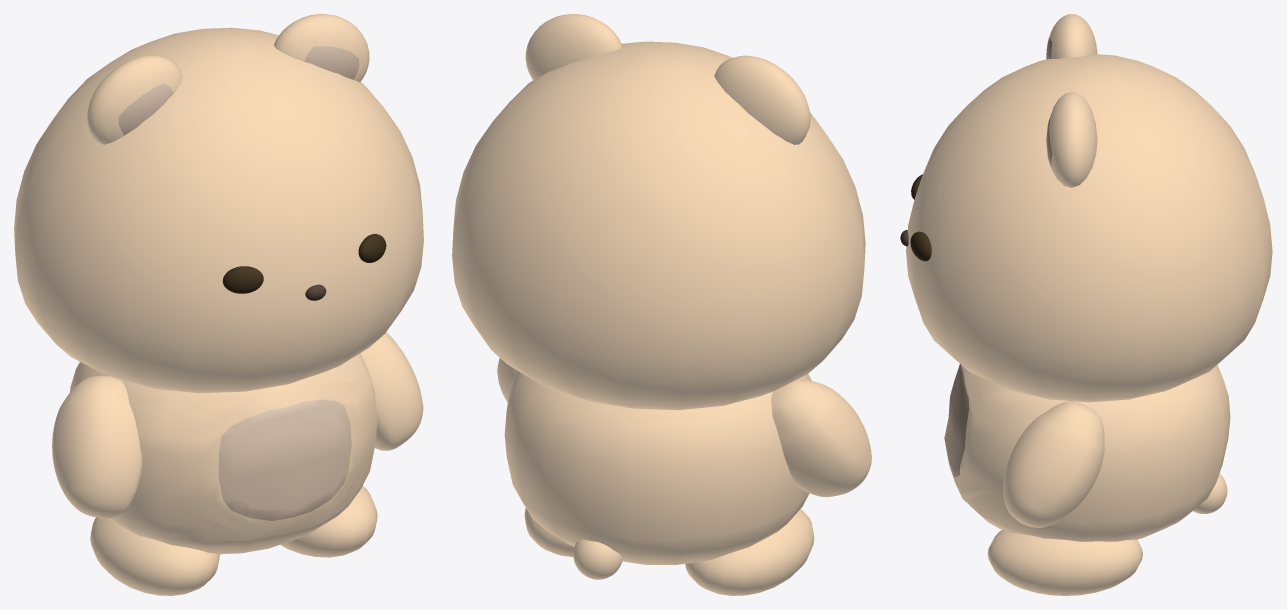
File: bear.glb
3 views of the same model, side by side, from view 1: azimuth 30°, elevation 25°; view 2: azimuth 150°, elevation 25°; view 3: azimuth 270°, elevation 25° (orthographic). The views are drawn at different scales.
Parts seen in each view (by area): view 1: head, hampSphere2 (×2), hampSphere5, right_ear (×2), left_foot, right_foot, right_eye1, right_eye; view 2: head, hampSphere2, hampSphere5, right_ear, left_foot, tail, right_foot; view 3: head, hampSphere2 (×2), hampSphere5, right_foot, right_ear, tail, right_eye.
Boxes of the visible parts, bbox=[...] form: head: bbox=[14, 27, 423, 393]; hampSphere2 (×2): bbox=[70, 353, 377, 554]; hampSphere5: bbox=[52, 332, 423, 518]; right_ear (×2): bbox=[87, 14, 369, 144]; left_foot: bbox=[90, 517, 219, 595]; right_foot: bbox=[280, 485, 377, 557]; right_eye1: bbox=[222, 266, 263, 293]; right_eye: bbox=[358, 234, 386, 262]; head: bbox=[452, 41, 865, 410]; hampSphere2: bbox=[504, 371, 811, 565]; hampSphere5: bbox=[497, 358, 871, 496]; right_ear: bbox=[525, 14, 810, 144]; left_foot: bbox=[685, 509, 814, 595]; tail: bbox=[573, 539, 622, 579]; right_foot: bbox=[524, 508, 574, 557]; head: bbox=[906, 54, 1272, 402]; hampSphere2 (×2): bbox=[944, 364, 1230, 541]; hampSphere5: bbox=[1003, 401, 1104, 527]; right_foot: bbox=[987, 529, 1142, 595]; right_ear: bbox=[1049, 14, 1097, 187]; tail: bbox=[1193, 473, 1227, 513]; right_eye: bbox=[910, 231, 931, 261].
Size of the model in its own units: 5.1 by 7.01 by 4.79.
